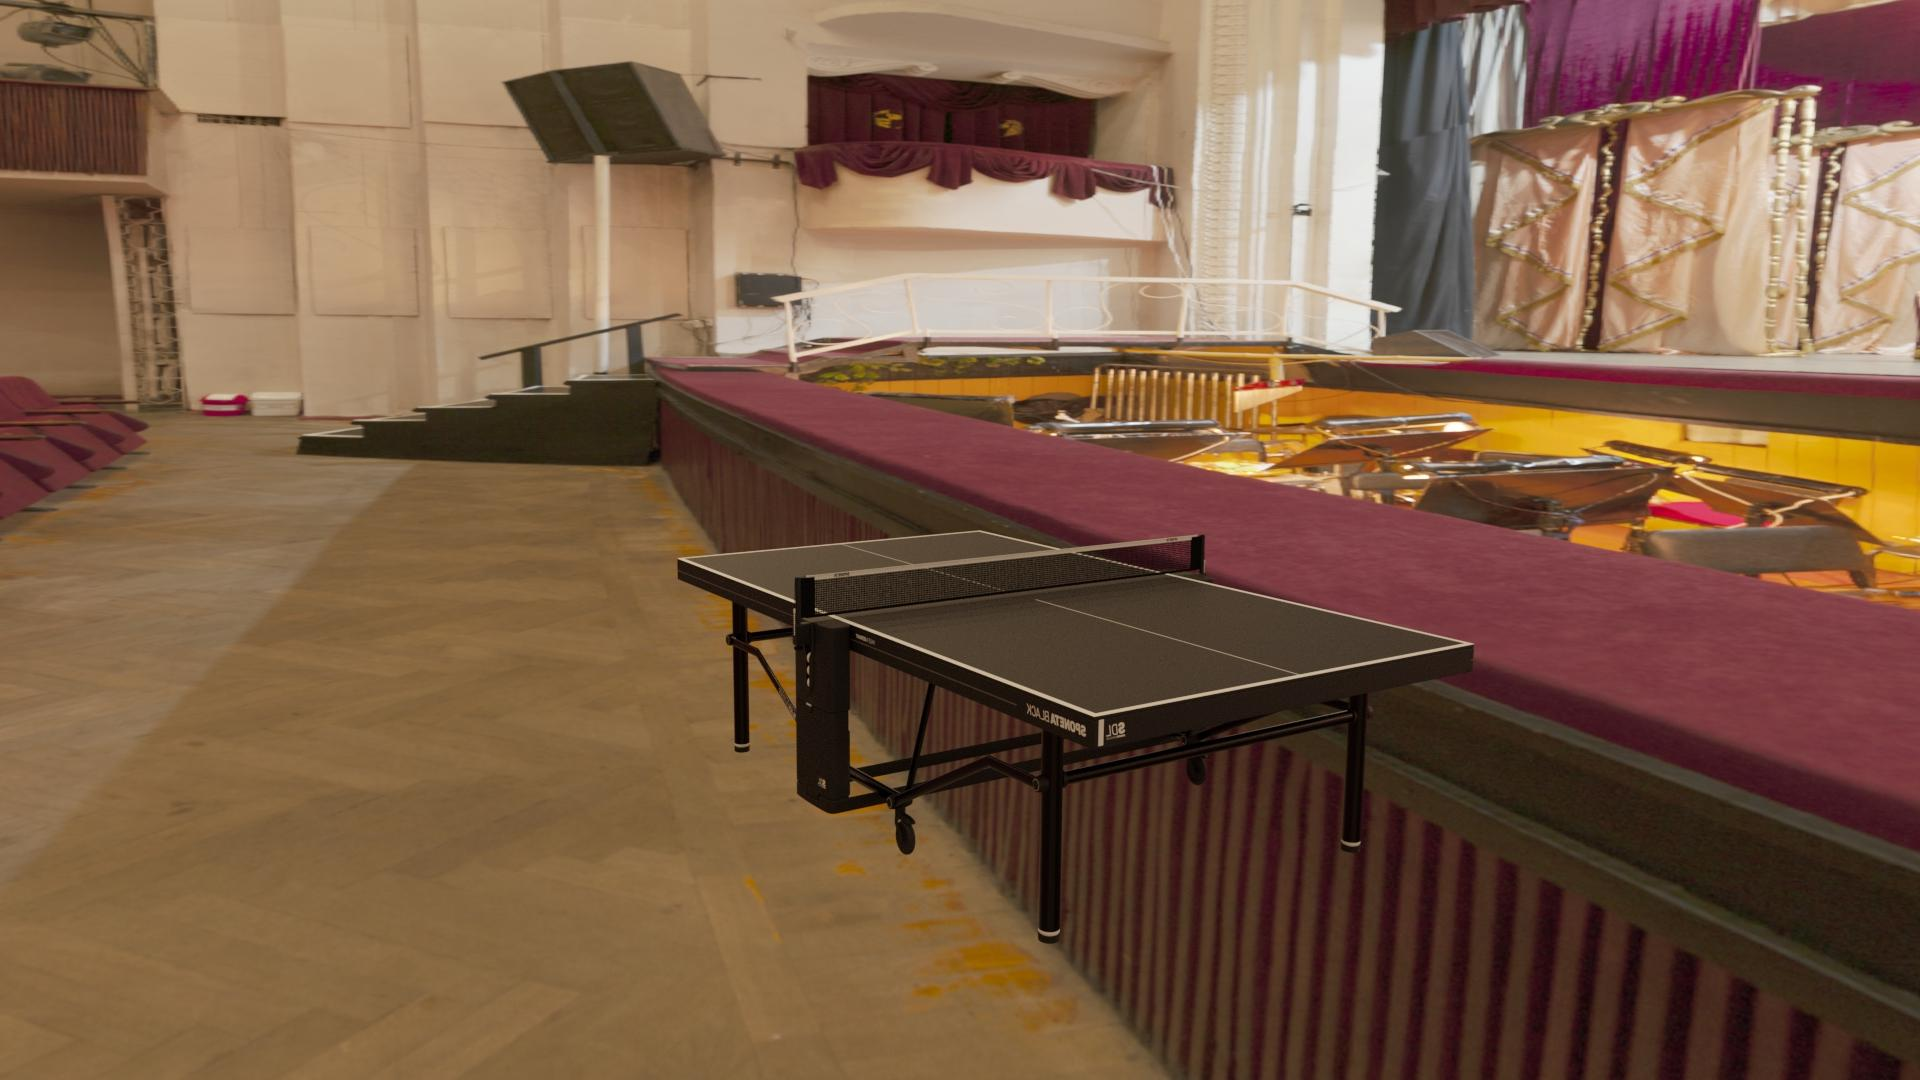table: (683, 531, 1465, 713)
